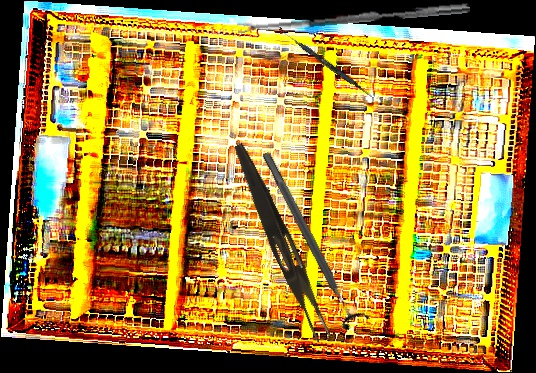Dressing Forceps: (223, 141, 339, 343)
Fixation Ring: (252, 145, 371, 333)
Spatula Surgical: (275, 26, 377, 100)
Surgical Spoon: (236, 1, 471, 34)
